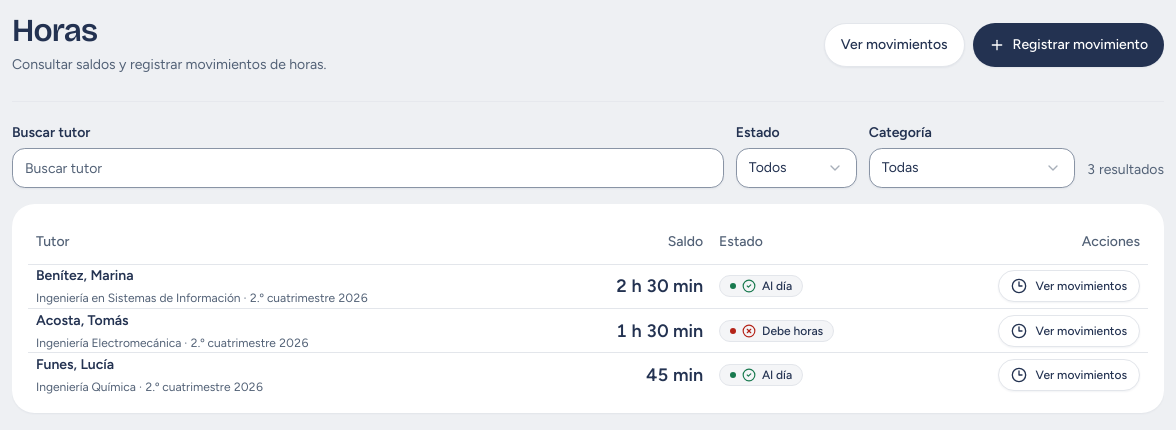
Test case: HoursScreen › filters live balances by search, status, and category
The image size is (1176, 430).
Type "Lucía" into the search field labelled "Buscar tutor" at (368, 168), box [12, 148, 724, 188]
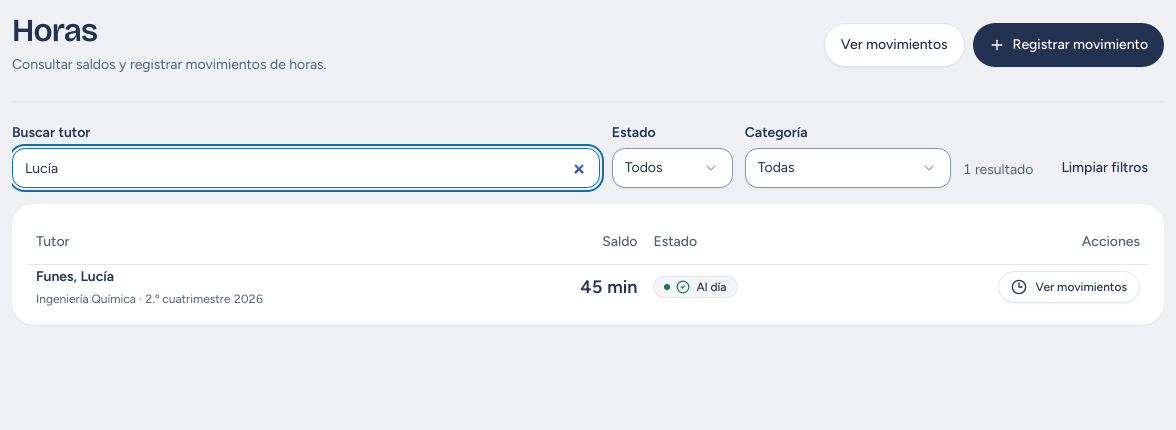
Expected: the link "Benítez, Marina" is gone
Clear the search field labelled "Buscar tutor" at (306, 168), box [12, 148, 600, 188]
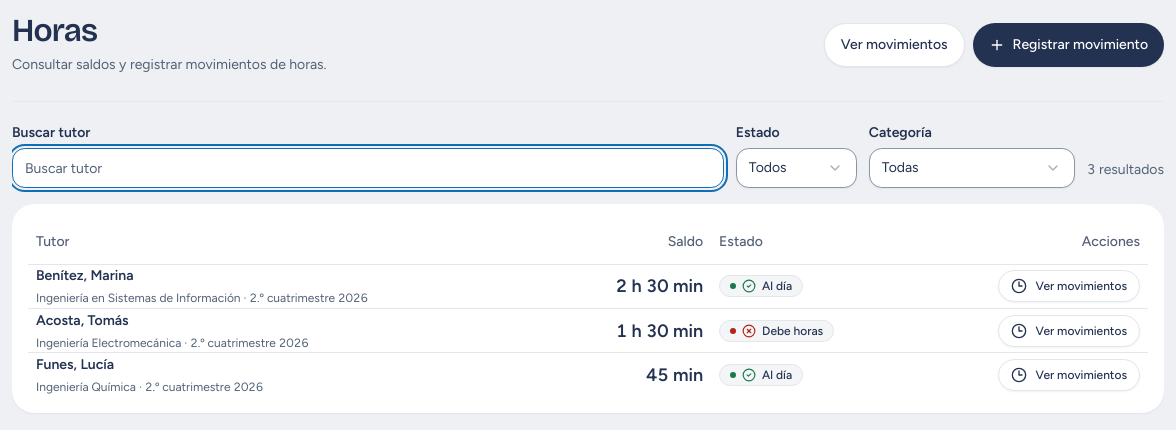
Select "Debe horas" in the dropdown labelled "Estado" at (796, 168), box [736, 148, 857, 188]
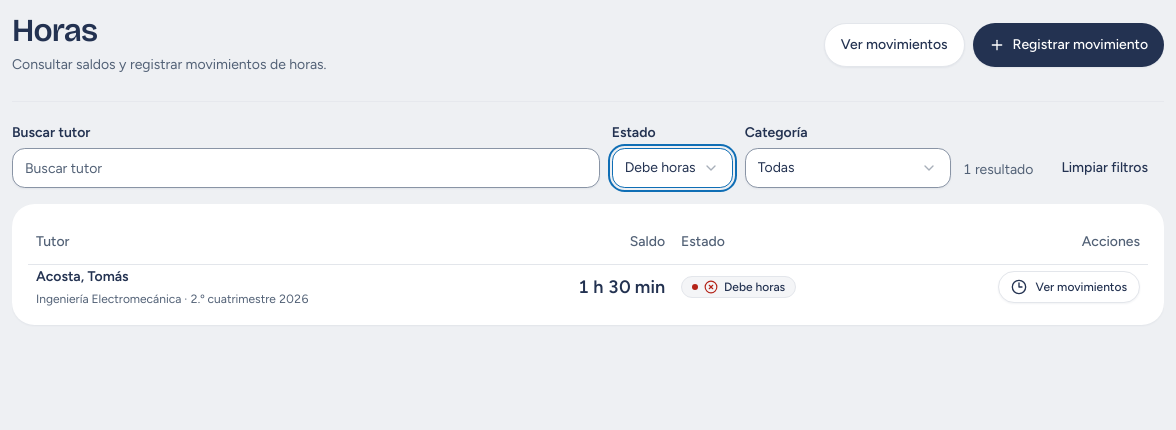
Expected: the link "Benítez, Marina" is gone
Select "Todos" in the dropdown labelled "Estado" at (672, 168), box [612, 148, 733, 188]
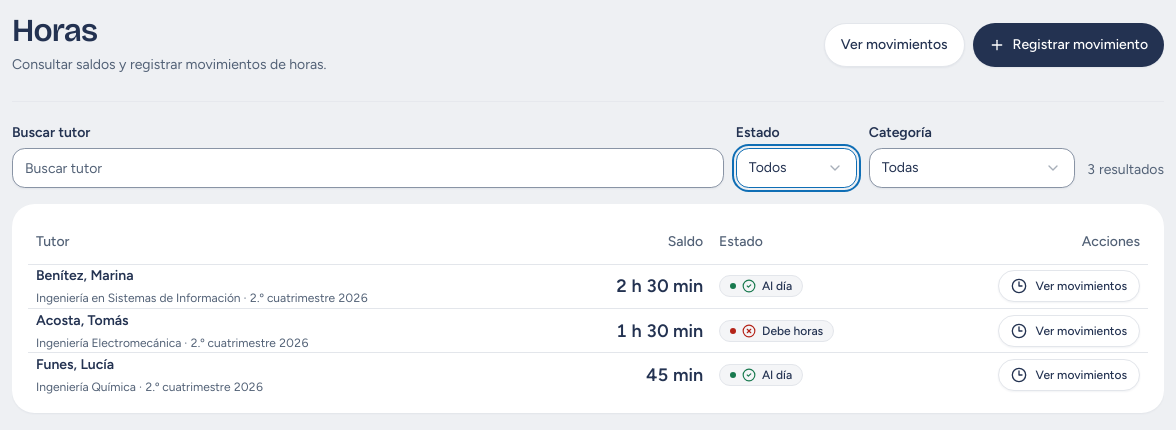
Select "Actividad extraordinaria" in the dropdown labelled "Categoría" at (972, 168), box [869, 148, 1075, 188]
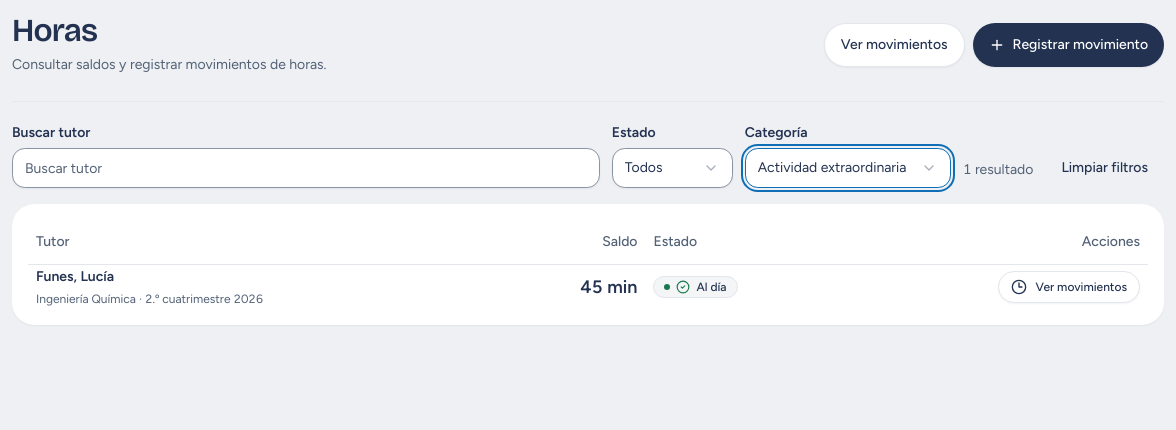
Expected: the link "Acosta, Tomás" is gone
